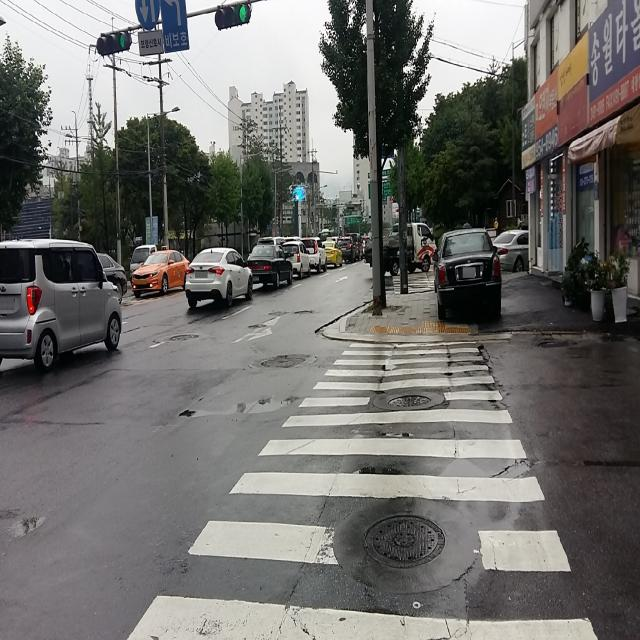횡단보도: (123, 336, 598, 640)
